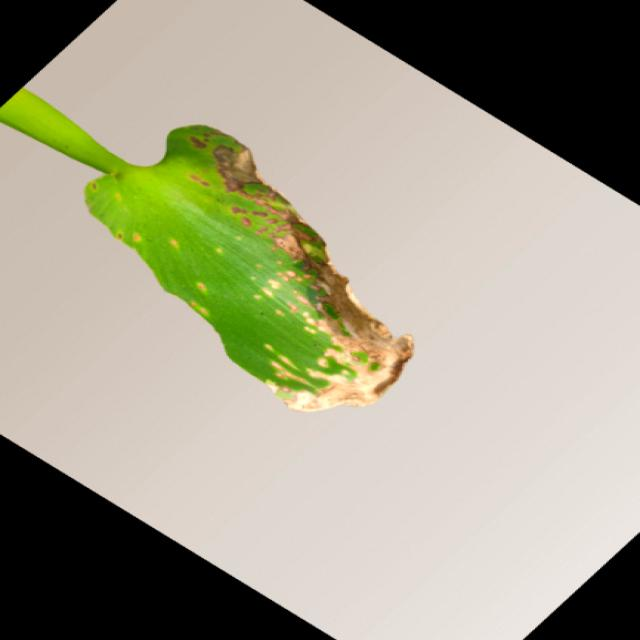daun berpenyakit bercak: (0, 90, 413, 411)
